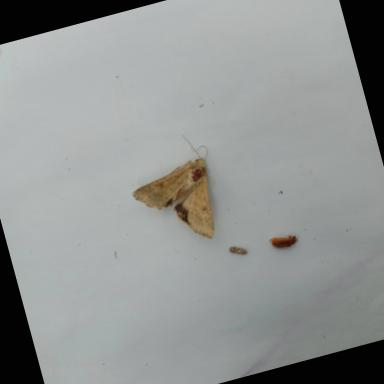abw: (120, 127, 237, 257)
